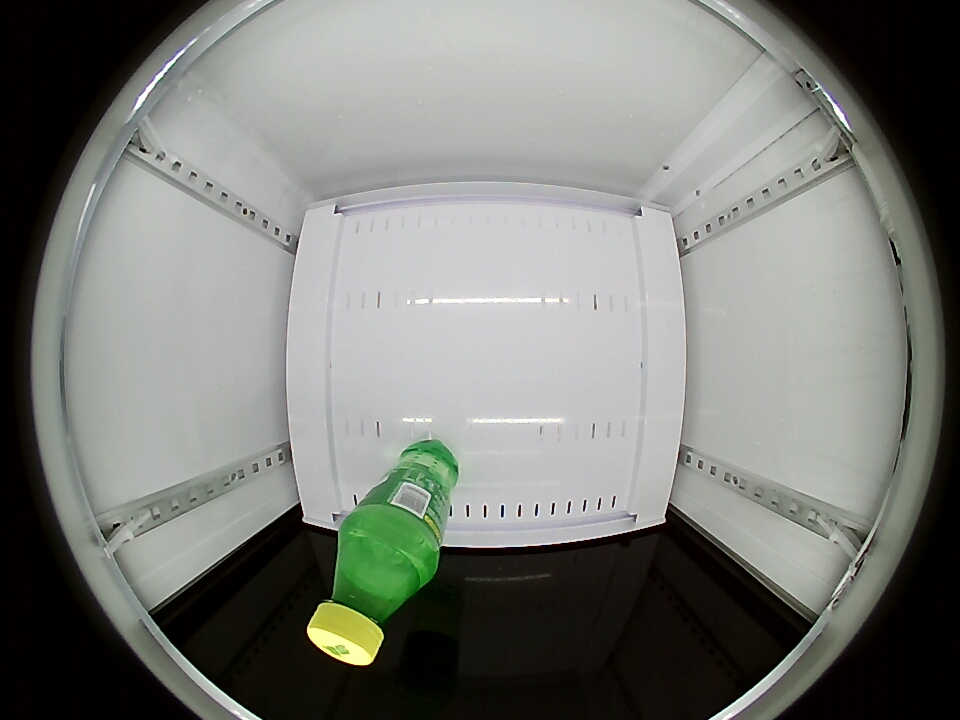xuebi-b: (307, 535, 429, 665)
